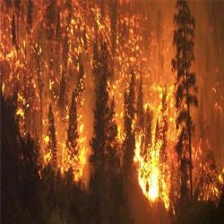fire: (135, 91, 174, 210), (56, 100, 90, 185), (68, 11, 122, 55)
